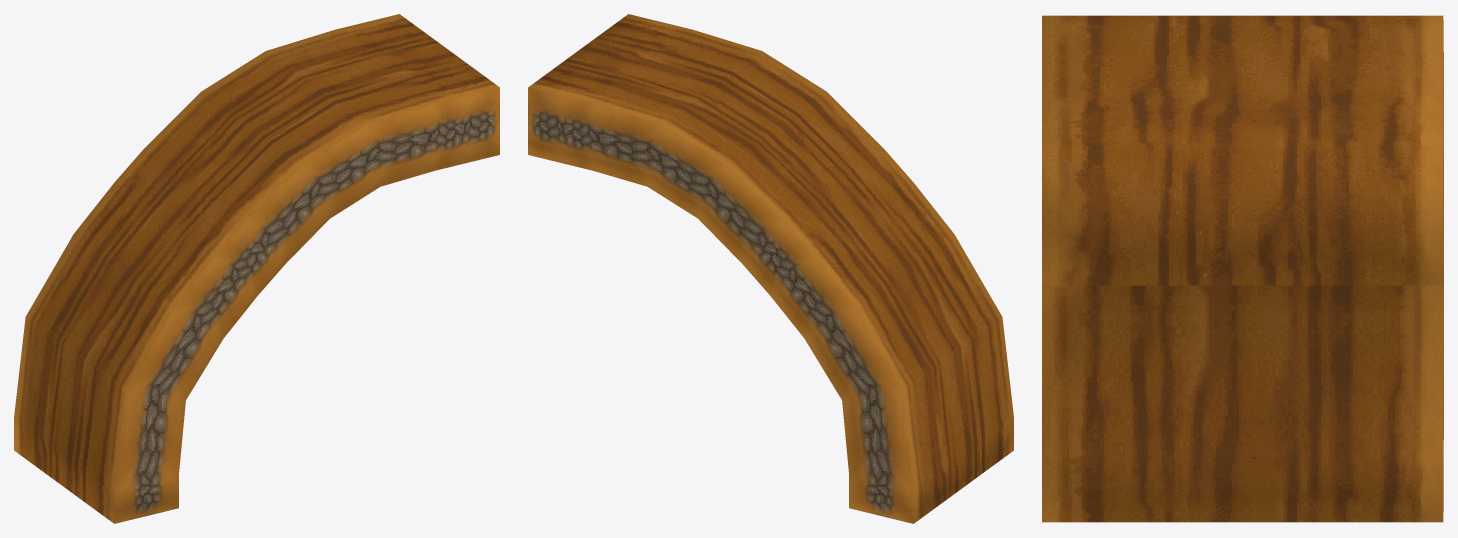
Rendered from SM_AP_CanyonWall_Bend_0.glb.
The picture shows the model from 3 angles, left to right: view 1: azimuth 30°, elevation 25°; view 2: azimuth 150°, elevation 25°; view 3: azimuth 270°, elevation 25°; orthographic projection. The views are drawn at different scales.
Parts seen in each view (by area): view 1: SM_AP_CanyonWall_Bend_0; view 2: SM_AP_CanyonWall_Bend_0; view 3: SM_AP_CanyonWall_Bend_0.
Part boxes in pixels (box(x1,y1,x2,y2)): SM_AP_CanyonWall_Bend_0: box(14, 14, 499, 523); SM_AP_CanyonWall_Bend_0: box(528, 14, 1013, 523); SM_AP_CanyonWall_Bend_0: box(1042, 15, 1443, 522).
Bounding box in the file's own units: 47.78 × 40.57 × 21.56.
1 material, 1 textured.
